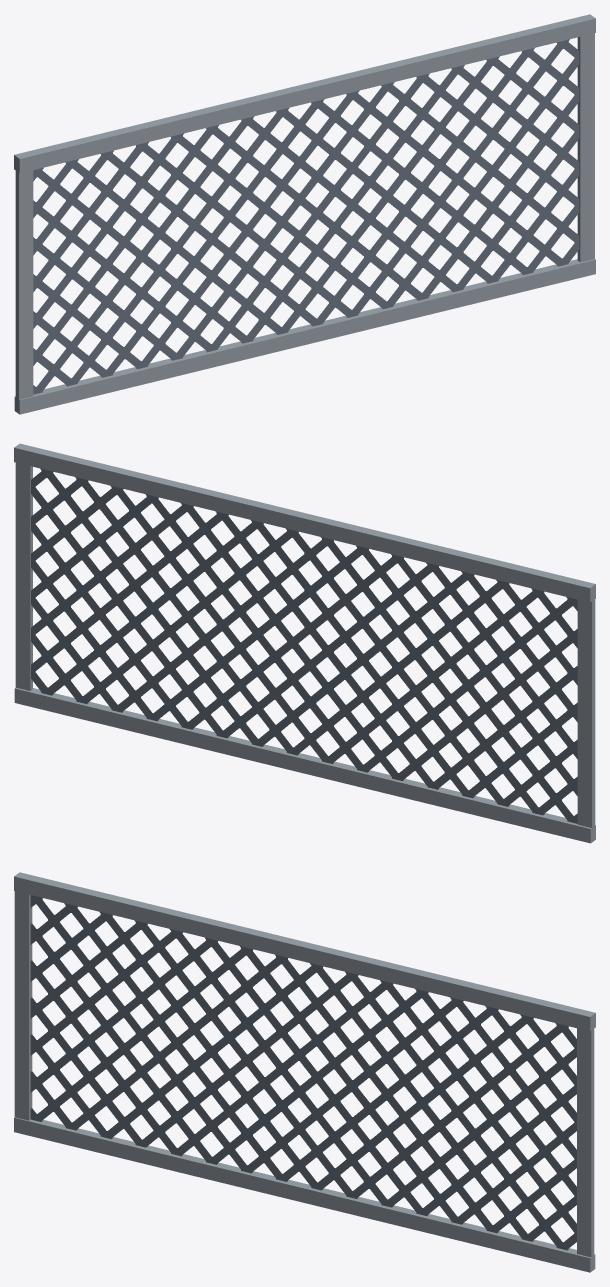
Rendered from Fence_ChainLink_01.fbx.
3 renders of one model, top to bottom at view 1: azimuth 30°, elevation 25°; view 2: azimuth 150°, elevation 25°; view 3: azimuth 330°, elevation 25°, orthographic.
Parts seen in each view (by area): view 1: Fence_ChainLink; view 2: Fence_ChainLink; view 3: Fence_ChainLink.
Boxes of the visible parts, <box> form: Fence_ChainLink: <box>14,14,595,414</box>; Fence_ChainLink: <box>14,443,595,843</box>; Fence_ChainLink: <box>14,872,595,1272</box>.
Size of the model in its own units: 400 by 170 by 6.95.
